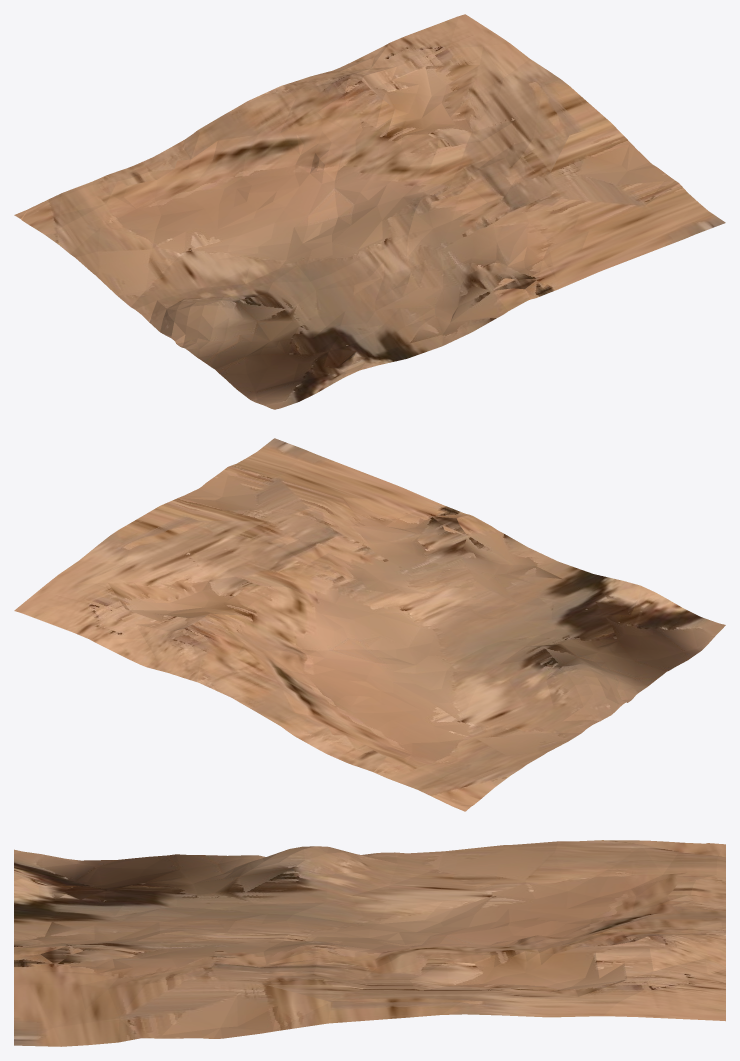
The picture shows the model from 3 angles, top to bottom: view 1: azimuth 30°, elevation 25°; view 2: azimuth 150°, elevation 25°; view 3: azimuth 270°, elevation 25°; orthographic projection. The views are drawn at different scales.
Size of the model in its own units: 1.04 by 0.238 by 1.04.
Materials: 2 (2 with a texture image).
